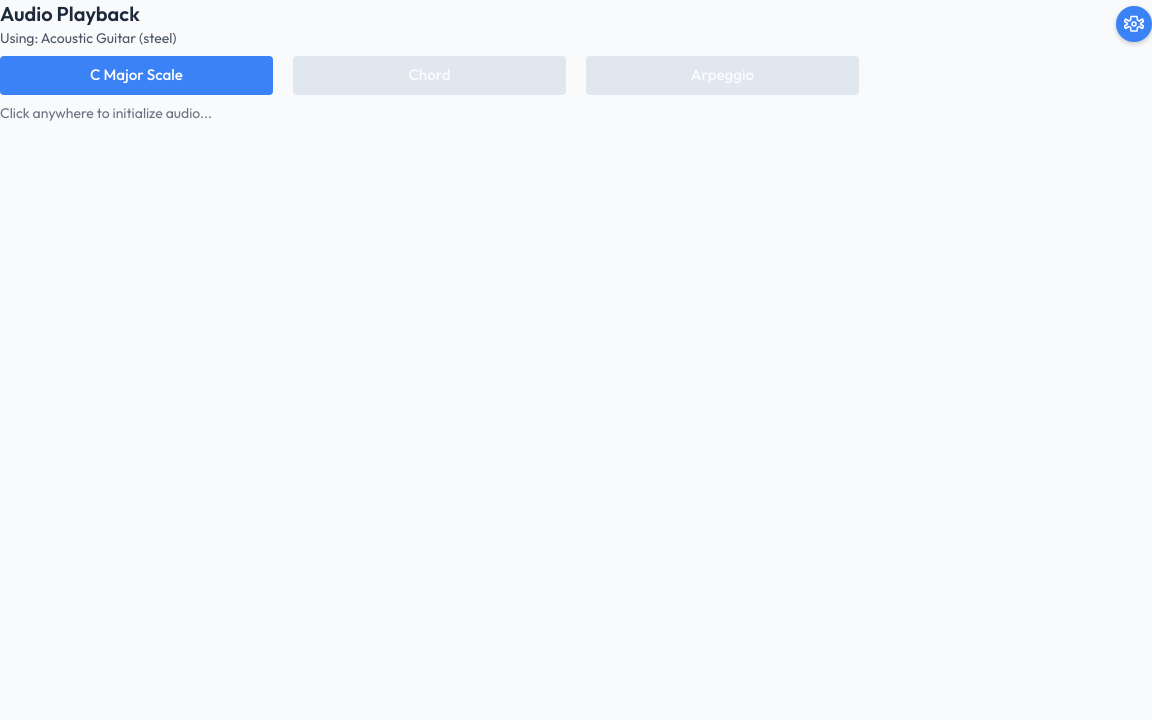
Test case: AudioPlayback Component › closes settings on Escape key press
# Open settings
Click the button named "Sound Settings" at (1134, 24), box [1116,6,1151,42]
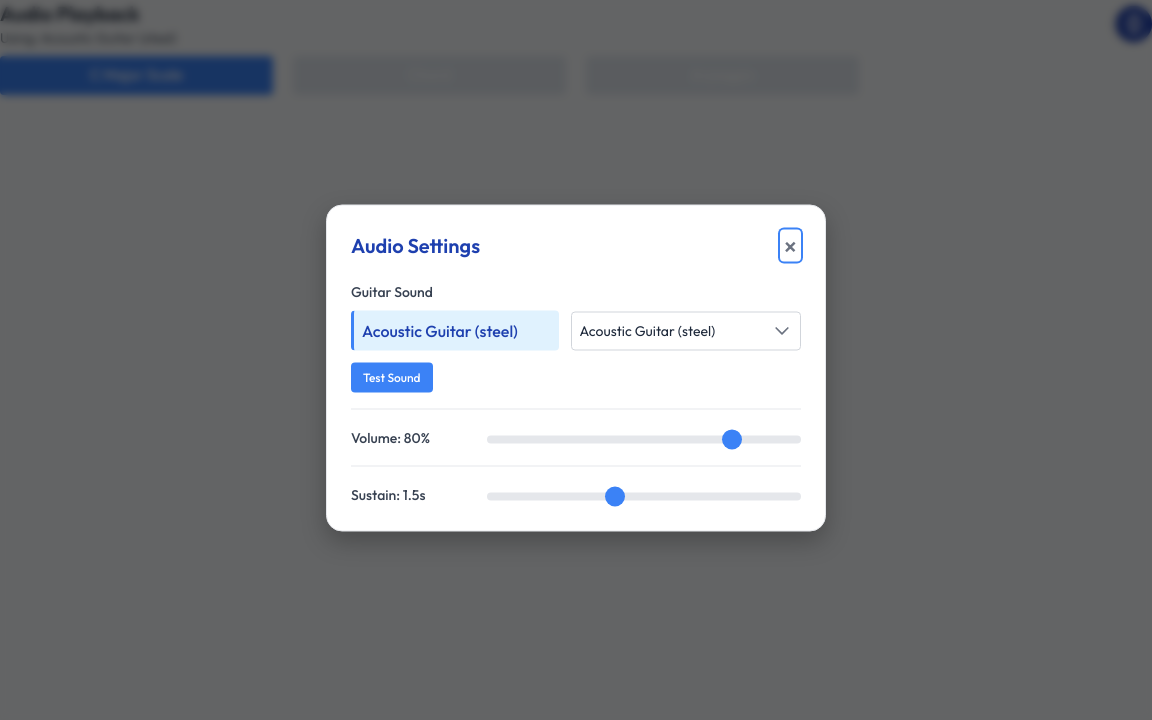
Result: the dialog is shown at [326,204,826,532]
# Press Escape
Press Escape
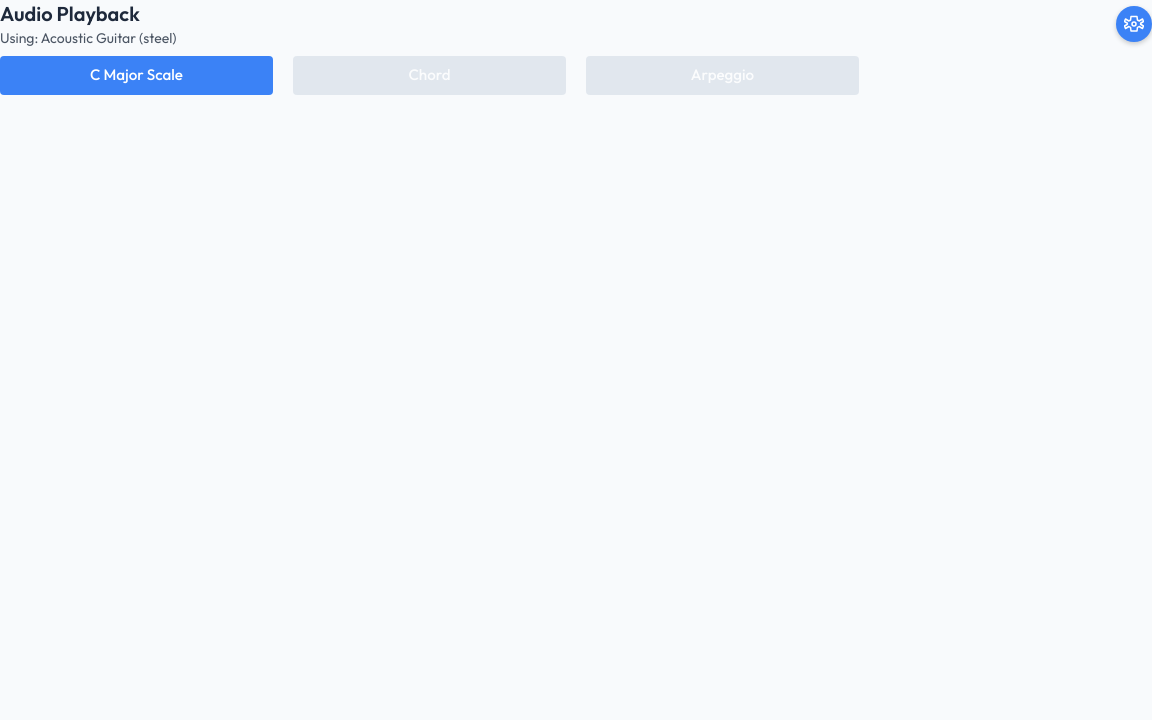
Result: the dialog is gone
